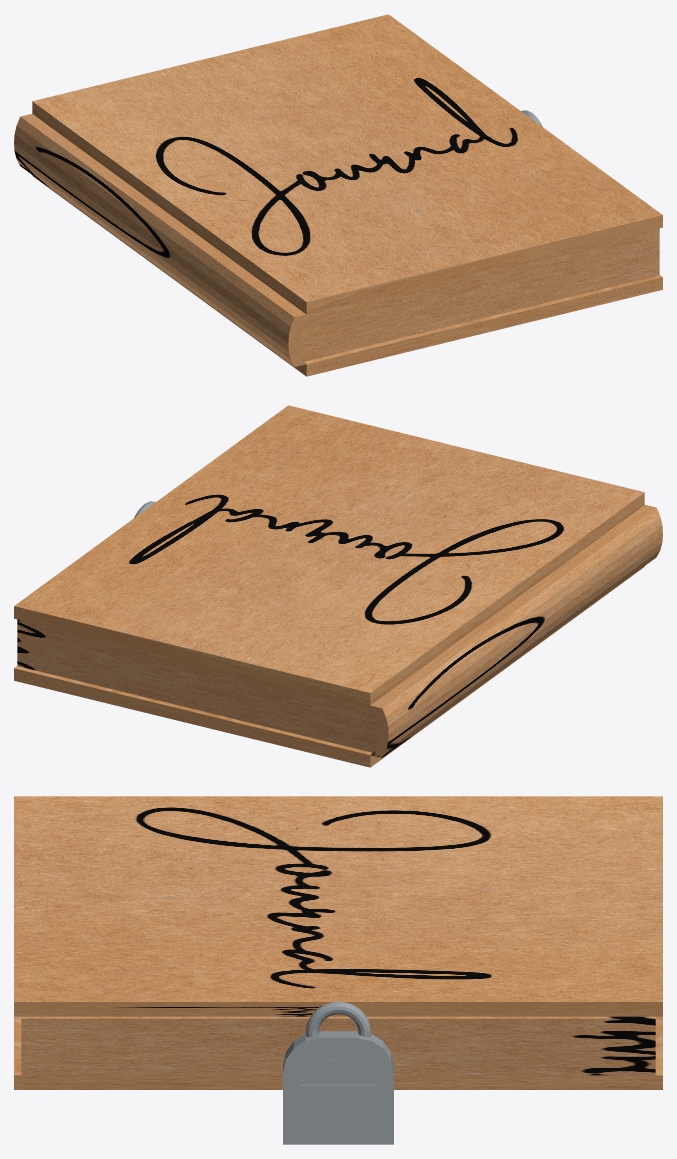
File: MDJournalCloseAsset.fbx
3 views of the same model, one above another, from view 1: azimuth 30°, elevation 25°; view 2: azimuth 150°, elevation 25°; view 3: azimuth 270°, elevation 25° (orthographic). The views are drawn at different scales.
Parts seen in each view (by area): view 1: spine; view 2: spine; view 3: spine.
Part boxes in pixels (left/top/right/bottom): spine: left=14, top=14, right=662, bottom=376; spine: left=14, top=405, right=662, bottom=767; spine: left=14, top=796, right=662, bottom=1144.
Size of the model in its own units: 171 by 44.63 by 200.
